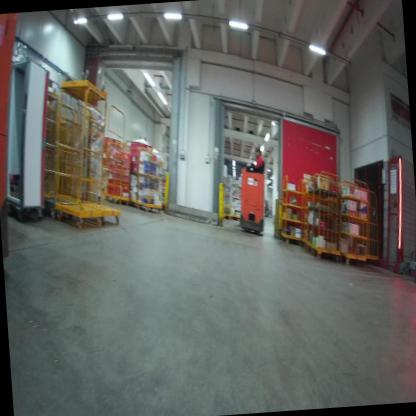pallet_truck: (0, 15, 37, 274), (229, 152, 276, 243)
